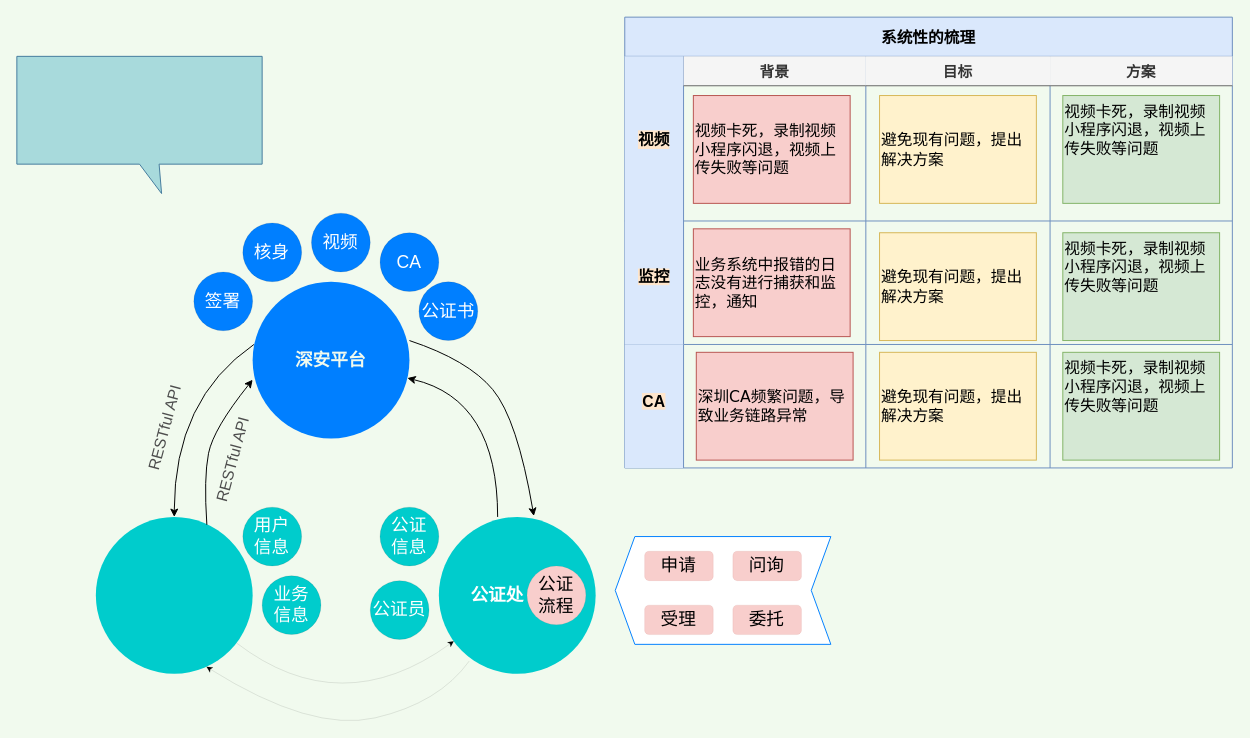
This 1250x738 diagram has some shape labels left out. Here are the shapes that lost their labels. From the top down, the centre of each, then its label:
At pixel 139 124: "功能服务解耦，有利于实现业务中台。服务于本身之外，可以服务于其他业务线。同时可以快速实现产品构建。".
At pixel 173 594: "银行".
